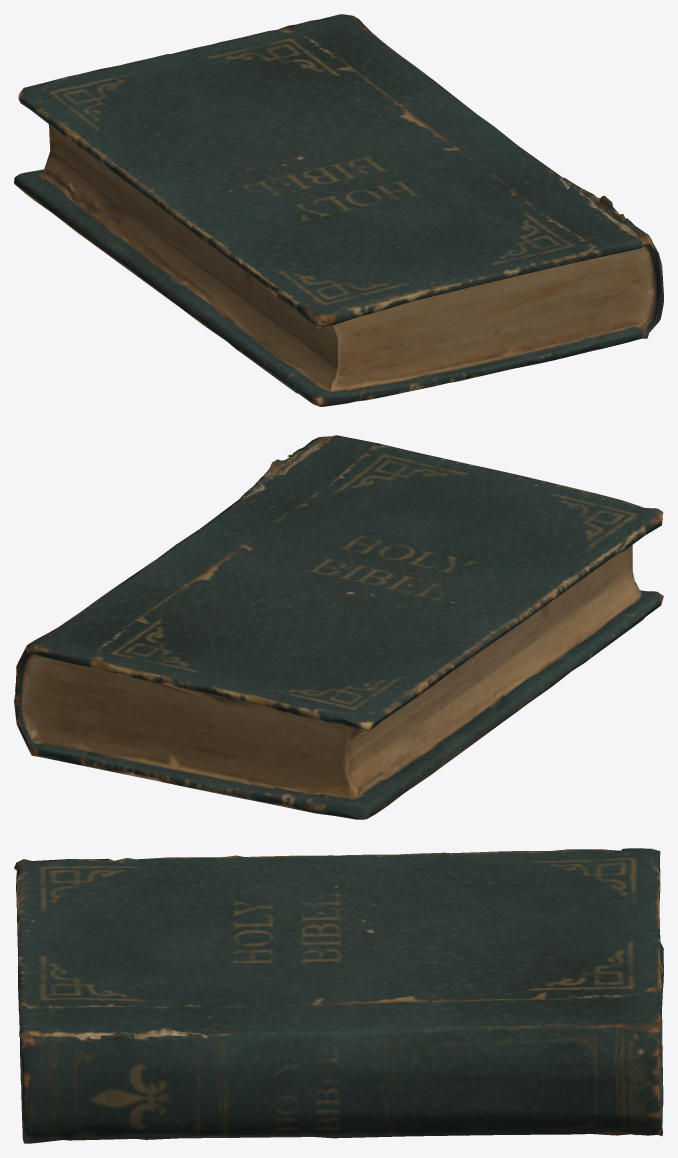
The model's file is SM_Prop_Book_E.fbx.
3 renders of one model, top to bottom at view 1: azimuth 30°, elevation 25°; view 2: azimuth 150°, elevation 25°; view 3: azimuth 270°, elevation 25°, orthographic. The views are drawn at different scales.
Parts seen in each view (by area): view 1: SM_Prop_Book_E_LOD0; view 2: SM_Prop_Book_E_LOD0; view 3: SM_Prop_Book_E_LOD0.
Boxes of the visible parts, bbox=[...] form: SM_Prop_Book_E_LOD0: bbox=[14, 14, 663, 406]; SM_Prop_Book_E_LOD0: bbox=[14, 435, 663, 819]; SM_Prop_Book_E_LOD0: bbox=[14, 848, 663, 1143].
Bounding box in the file's own units: 23.08 × 33.88 × 7.11.
Materials: 1 (1 with a texture image).
